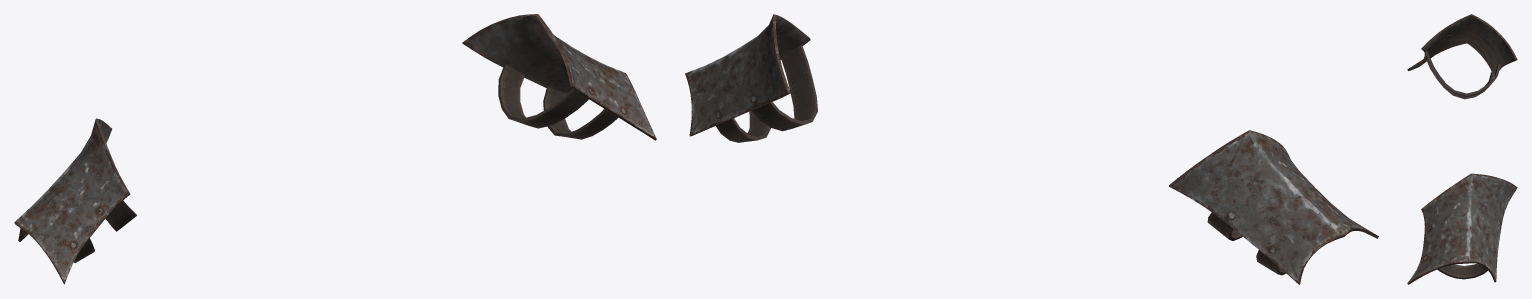
The model's file is sk_gb_uruk_bracer_med_b.fbx.
3 renders of one model, left to right at view 1: azimuth 30°, elevation 25°; view 2: azimuth 150°, elevation 25°; view 3: azimuth 270°, elevation 25°, orthographic. The views are drawn at different scales.
Parts seen in each view (by area): view 1: sk_gb_uruk_bracer_med_b; view 2: sk_gb_uruk_bracer_med_b; view 3: sk_gb_uruk_bracer_med_b.
Boxes of the visible parts, bbox=[...] form: sk_gb_uruk_bracer_med_b: bbox=[14, 14, 656, 284]; sk_gb_uruk_bracer_med_b: bbox=[685, 14, 1378, 284]; sk_gb_uruk_bracer_med_b: bbox=[1407, 14, 1517, 284].
Bounding box in the file's own units: 1.25 × 0.2641 × 0.249.
1 material, 1 textured.
